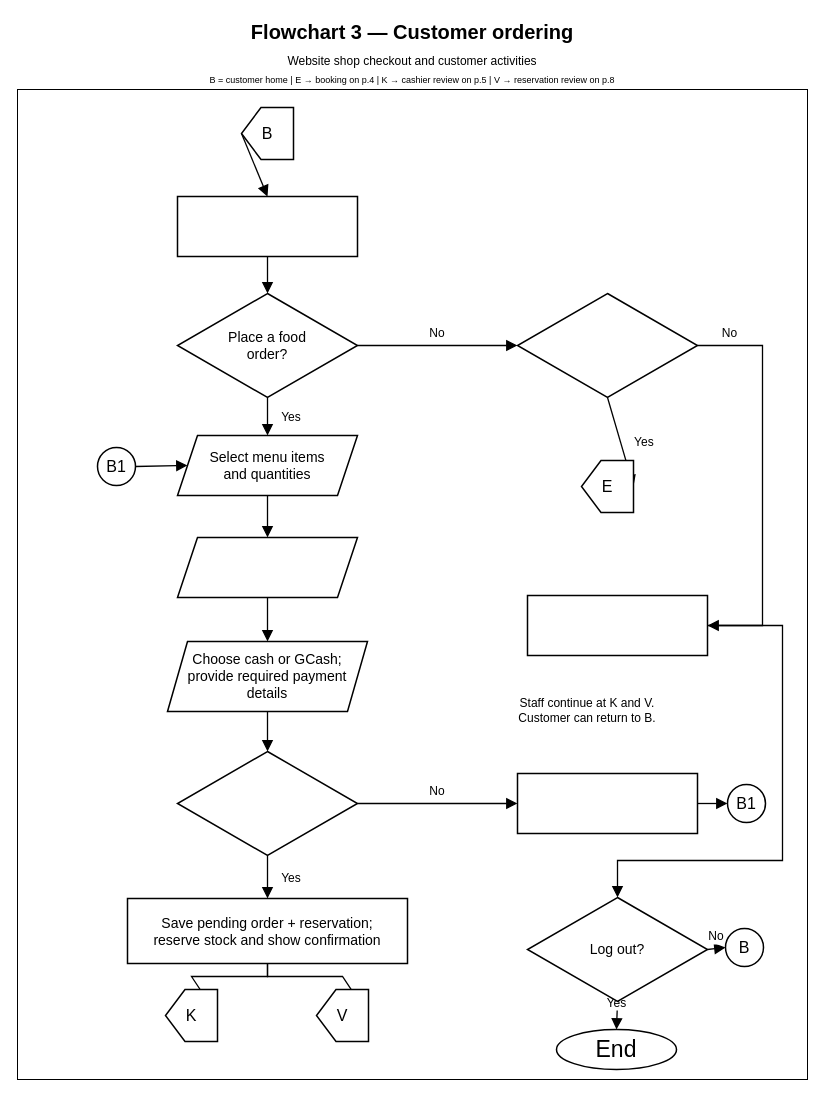
This 825x1097 diagram has some shape labels left out. The shapes that lost their labels are listed below. From the top down, each one's centre as x and y in pixels, then its label:
At [267,226]: "Open customer shop".
At [607,345]: "Book without shop checkout?".
At [267,567]: "Enter table size, schedule and contact details".
At [617,625]: "View own history, status and receipts".
At [267,803]: "Valid input, stock and schedule?".
At [607,803]: "Show error; revise checkout".
